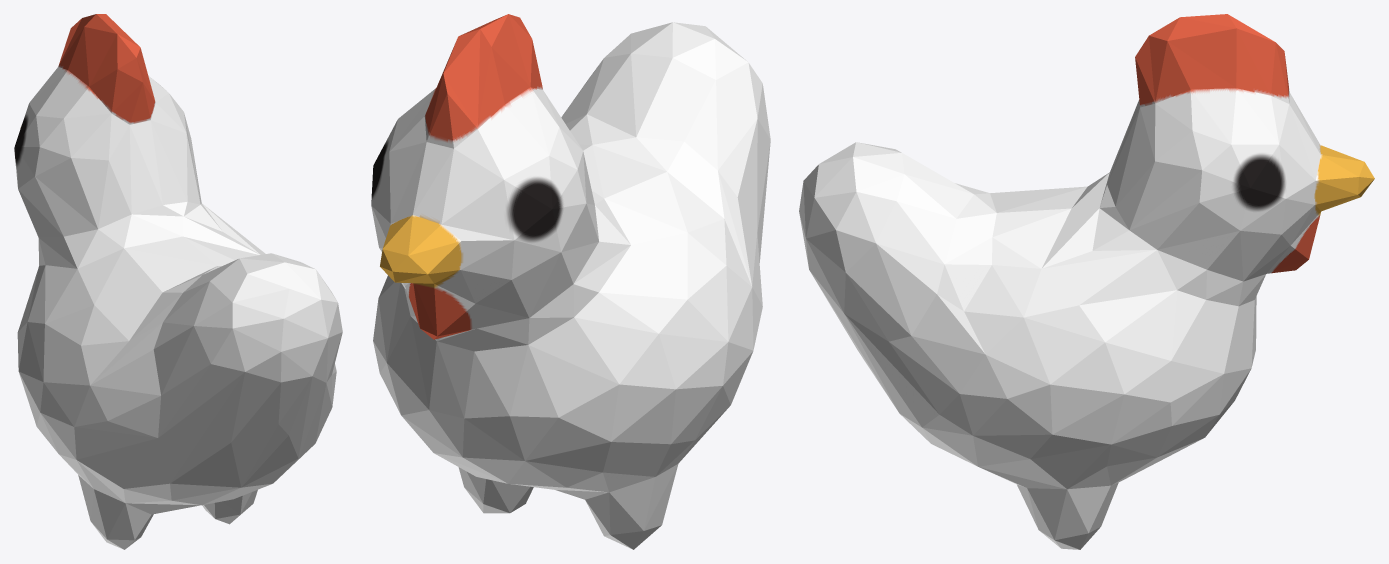
File: animal_chicken_blob.obj
3 renders of one model, left to right at view 1: azimuth 30°, elevation 25°; view 2: azimuth 150°, elevation 25°; view 3: azimuth 270°, elevation 25°, orthographic. The views are drawn at different scales.
Visible parts, largest first — view 1: animal_chicken_blob; view 2: animal_chicken_blob; view 3: animal_chicken_blob.
Boxes of the visible parts, <box> form: animal_chicken_blob: <box>14,14,342,549</box>; animal_chicken_blob: <box>371,14,770,549</box>; animal_chicken_blob: <box>799,14,1374,549</box>.
Bounding box in the file's own units: 0.2965 × 0.5029 × 0.5197.
